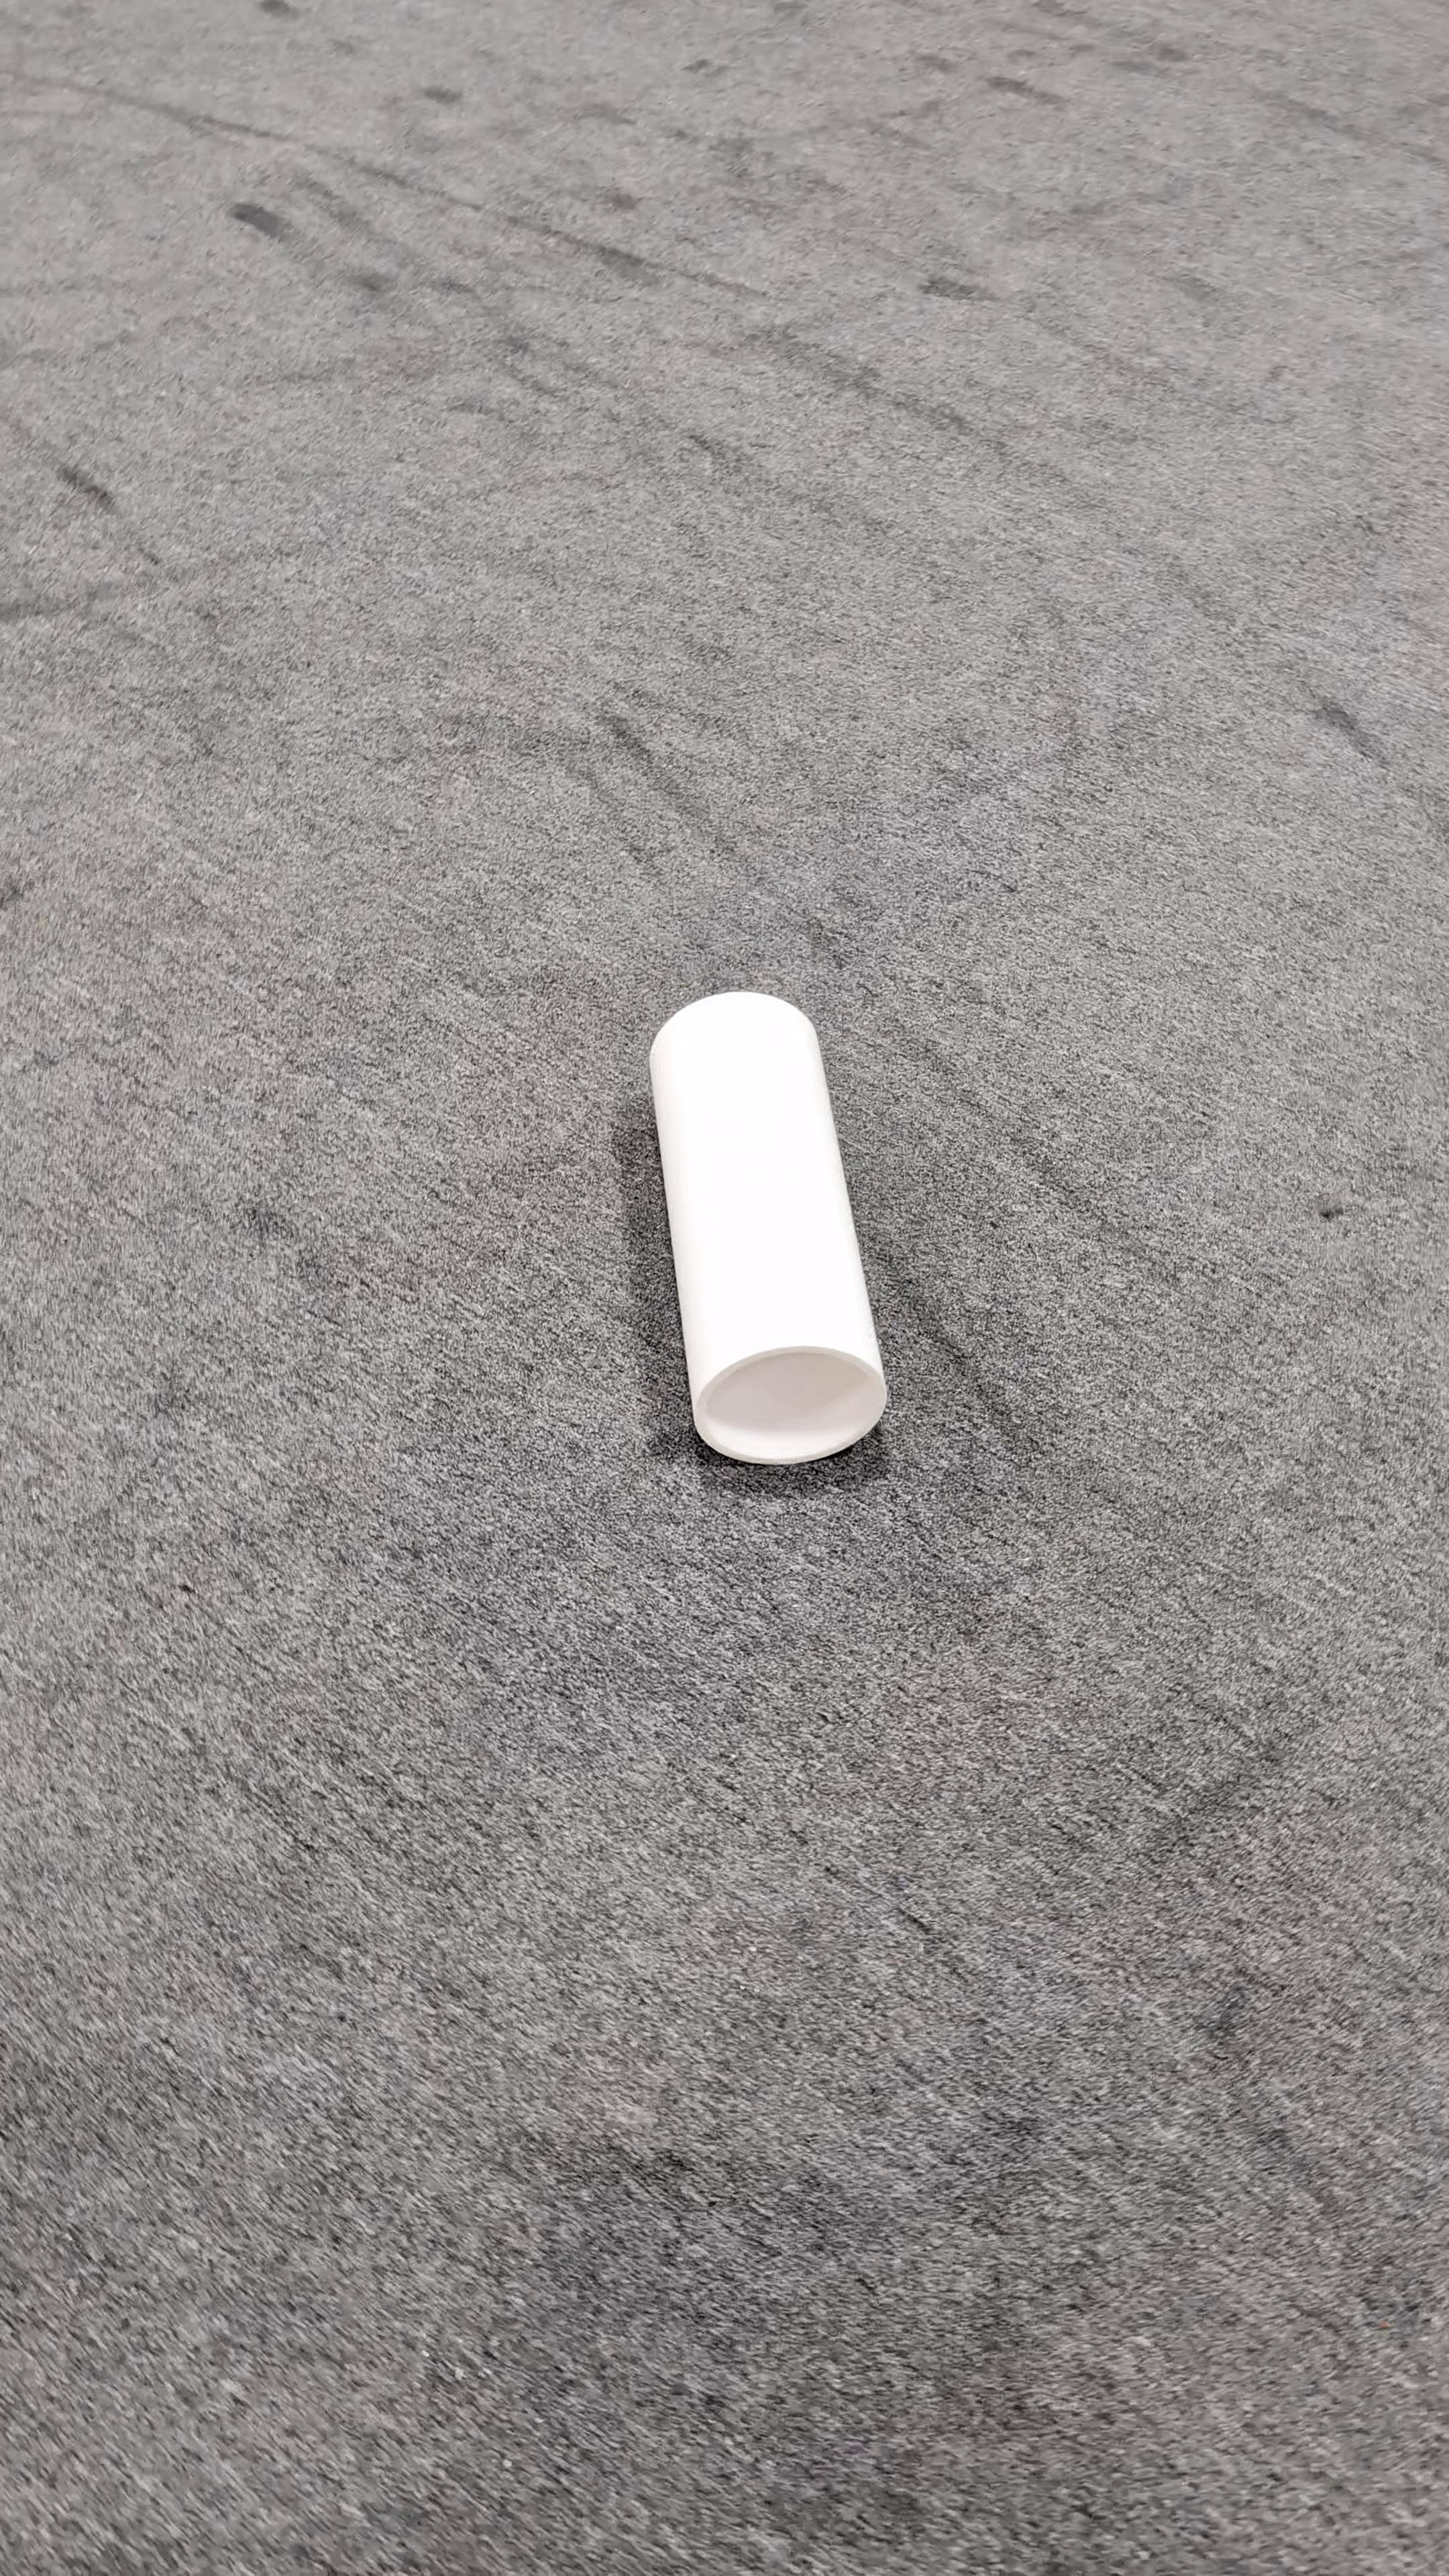coral: (648, 991, 888, 1467)
